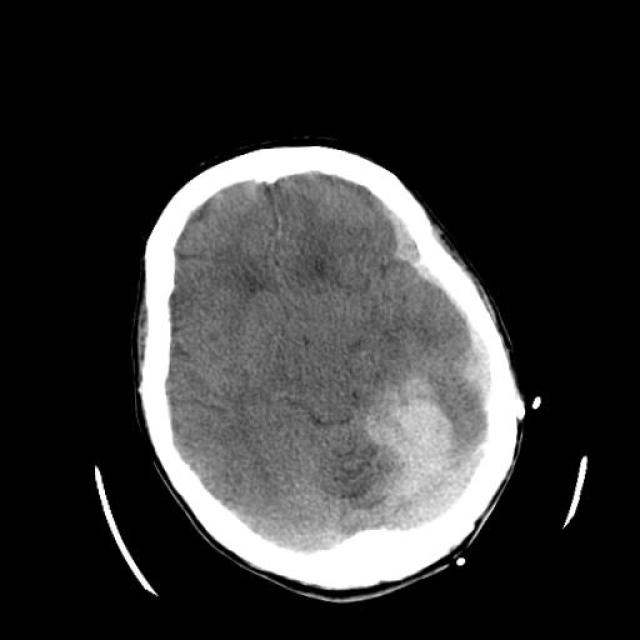Intraparenchymal: (325, 383, 483, 517)
Subdural: (374, 190, 477, 330)
